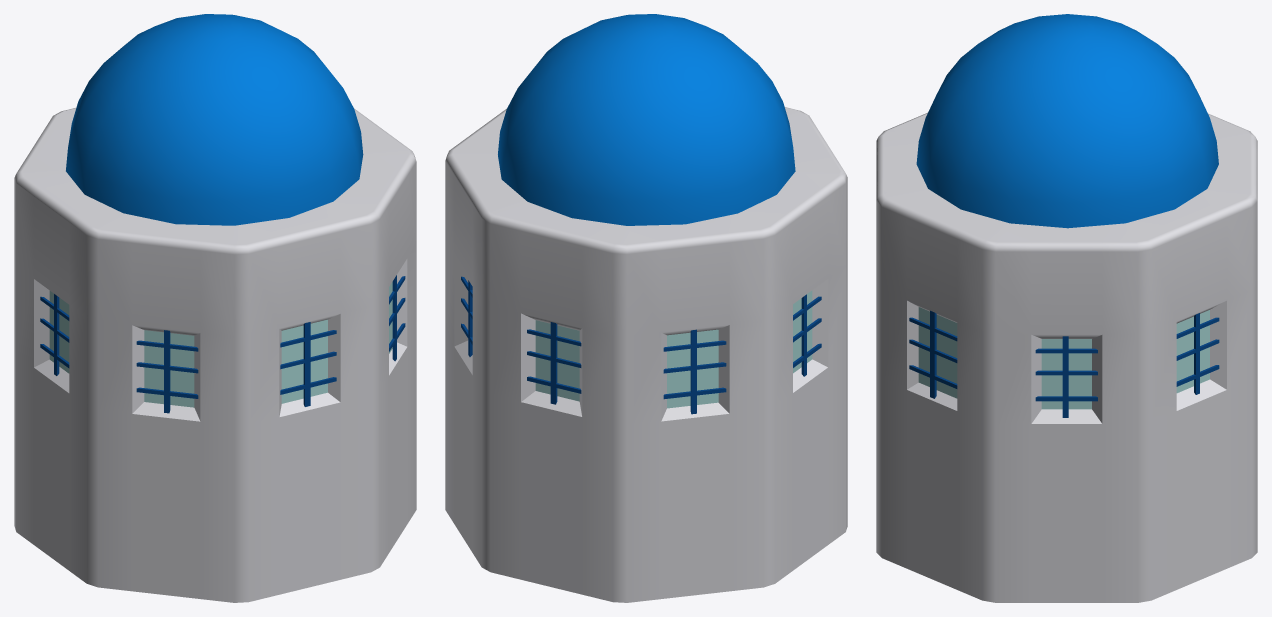
Rendered from Tower.fbx.
3 renders of one model, left to right at view 1: azimuth 30°, elevation 25°; view 2: azimuth 150°, elevation 25°; view 3: azimuth 270°, elevation 25°, orthographic.
Parts seen in each view (by area): view 1: pCylinder1, top, Window25, Window24, Window26, Window; view 2: pCylinder1, top, Window27, Window28, Window26; view 3: pCylinder1, top, Window30, Window, Window29.
Boxes of the visible parts, left/top/right/bottom form: pCylinder1: left=14, top=108, right=416, bottom=602; top: left=66, top=14, right=363, bottom=225; Window25: left=136, top=330, right=198, bottom=413; Window24: left=280, top=319, right=336, bottom=406; Window26: left=40, top=291, right=69, bottom=375; Window: left=389, top=275, right=405, bottom=361; pCylinder1: left=445, top=107, right=847, bottom=602; top: left=498, top=14, right=795, bottom=225; Window27: left=663, top=329, right=726, bottom=414; Window28: left=527, top=320, right=581, bottom=404; Window26: left=793, top=290, right=821, bottom=376; pCylinder1: left=876, top=112, right=1257, bottom=602; top: left=916, top=14, right=1218, bottom=228; Window30: left=1035, top=336, right=1097, bottom=417; Window: left=909, top=307, right=957, bottom=398; Window29: left=1176, top=310, right=1219, bottom=394.
Size of the model in its own units: 15.8 by 22.59 by 15.8.
